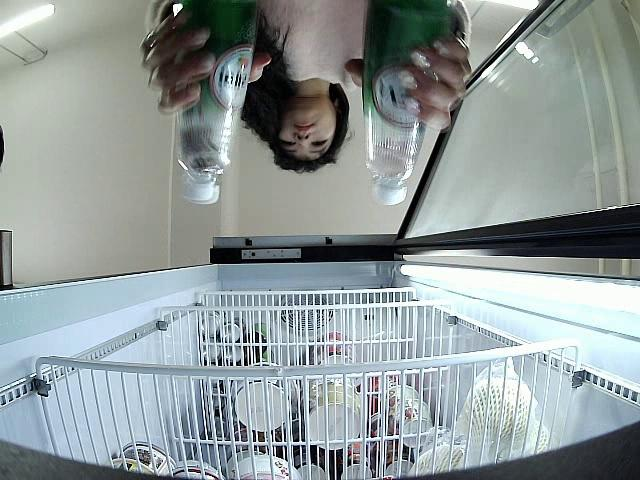00_hand: (141, 9, 272, 121), (345, 35, 471, 130)
18_trevi: (363, 0, 462, 205), (176, 0, 257, 205)
